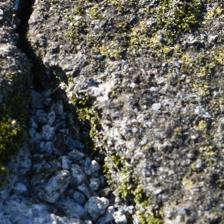Crack: (14, 6, 138, 217)
